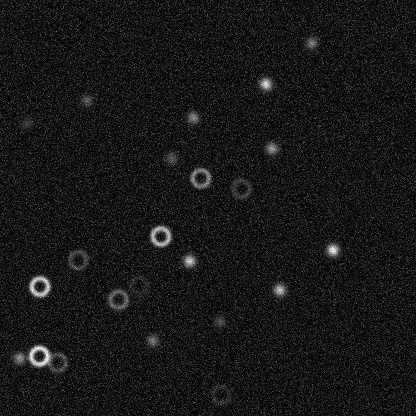Ring: (148, 224, 172, 248), (208, 382, 232, 406), (127, 273, 151, 297), (65, 247, 89, 271), (106, 287, 130, 311), (188, 165, 212, 189), (27, 274, 51, 298), (229, 176, 253, 200), (26, 343, 50, 367), (45, 350, 69, 374)
Spot: (263, 140, 279, 156), (257, 75, 273, 91), (324, 241, 340, 257), (144, 332, 160, 348), (211, 313, 227, 329), (181, 252, 197, 268), (303, 34, 319, 50), (18, 115, 34, 131), (184, 109, 200, 125), (163, 149, 179, 165), (11, 349, 27, 365), (78, 92, 94, 108), (271, 281, 287, 297)
